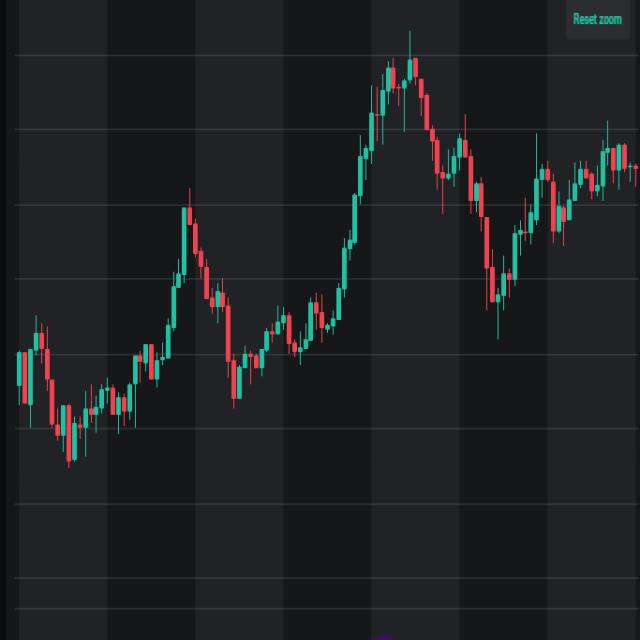Resistance-breakout: (151, 104, 378, 368)
